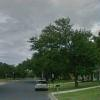Tree: (34, 13, 98, 81)
